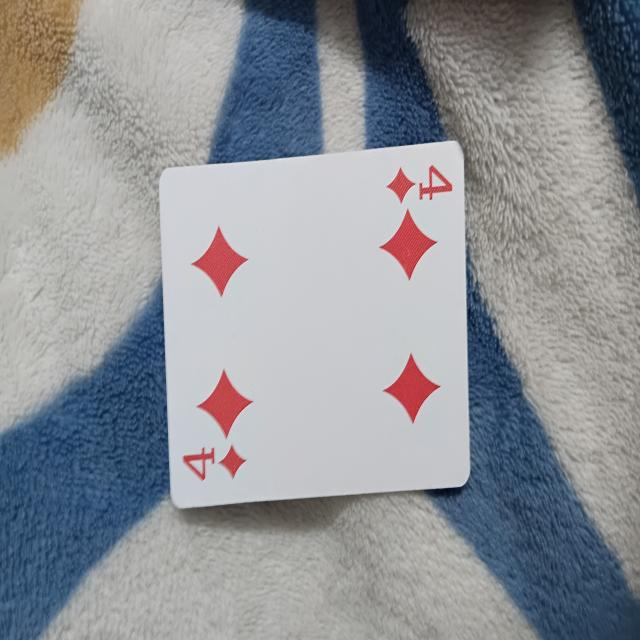4D: (158, 129, 474, 513)
